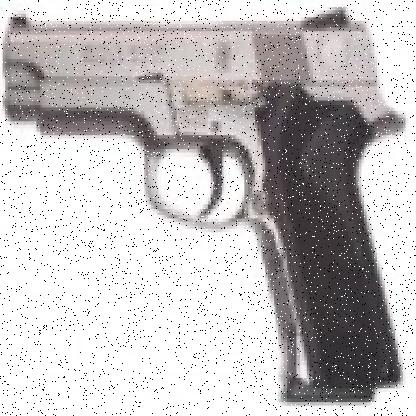pistol: (5, 7, 398, 402)
